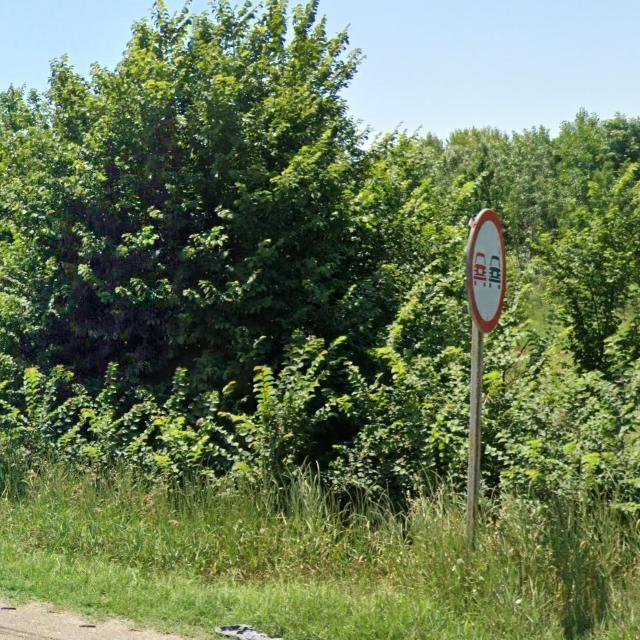forb_overtake: (467, 210, 508, 333)
